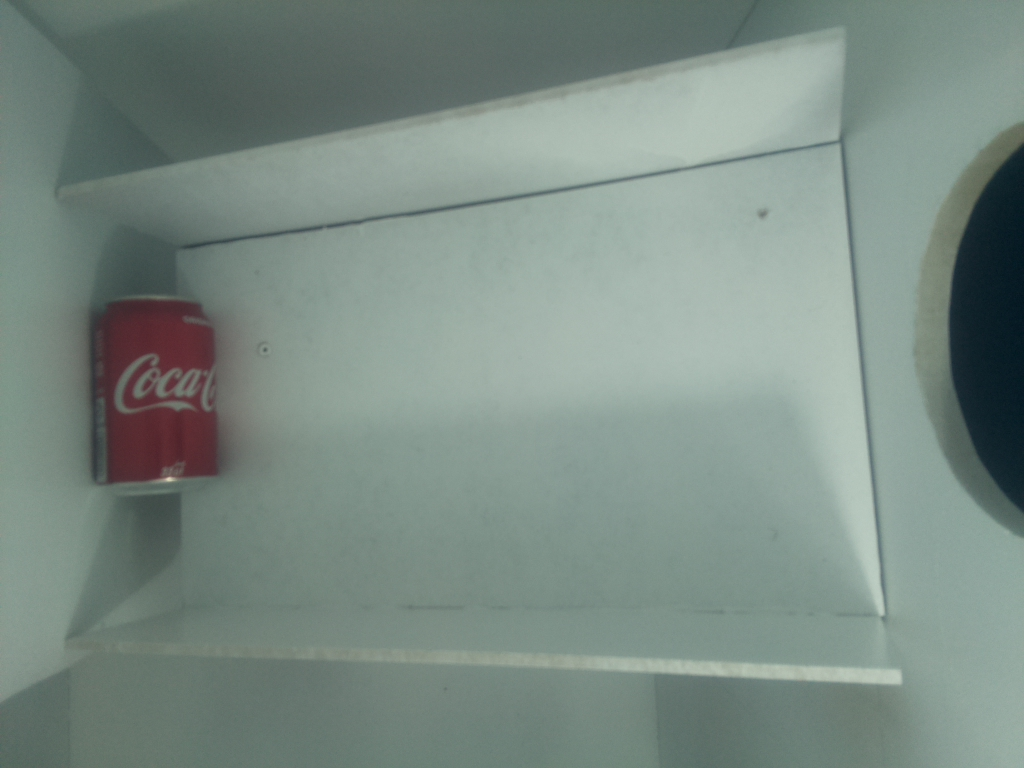kaleng: (95, 295, 218, 490)
